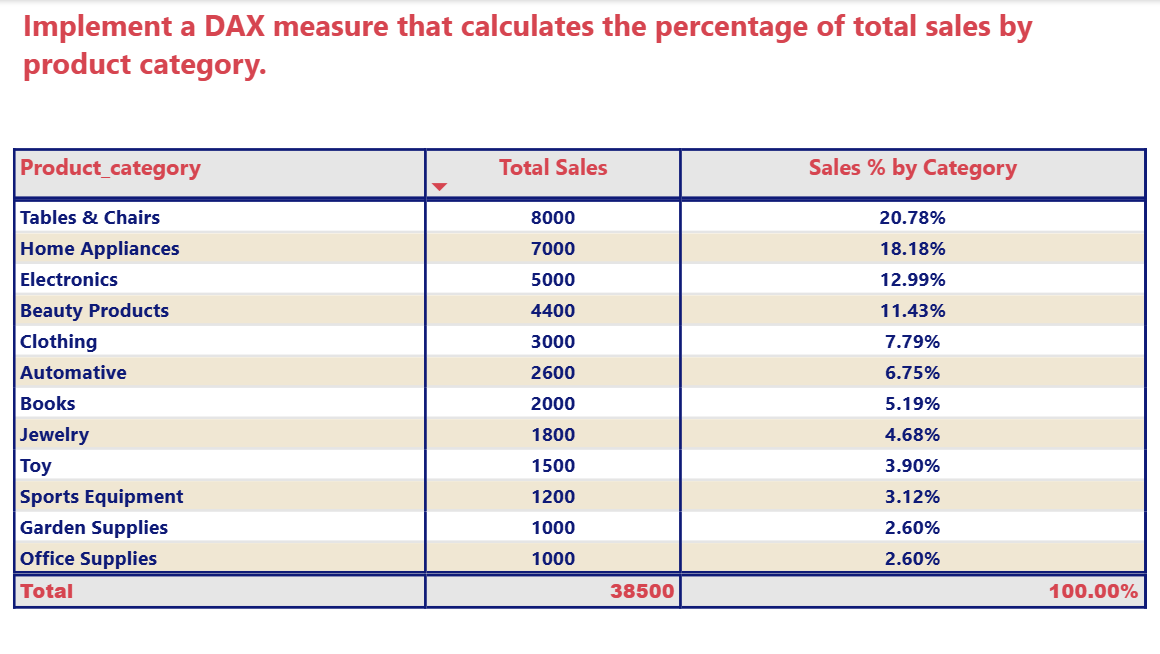

The dashboard page shown, as its layout file describes it:
{"tool":"powerbi","page":{"name":"Solution-8","canvas":[1280,720],"ordinal":2},"visuals":[{"type":"tableEx","fields":{"Values":["SalesTable.Product_category","SalesTable.Total Sales","SalesTable.Sales % by Category"]},"box":[11,157.8,1257,562.6],"z":0},{"type":"textbox","box":[23.3,0,1213,112.5],"z":1000}]}

Visuals, with their boxes in screenshot pixels (x1, y1, x2, y2), scaled from the page's 1280x720 canvas onto the 1160x654 screenshot:
tableEx - SalesTable.Product_category x SalesTable.Total Sales: {"left": 10, "top": 143, "right": 1149, "bottom": 653}
textbox: {"left": 21, "top": 0, "right": 1120, "bottom": 102}
